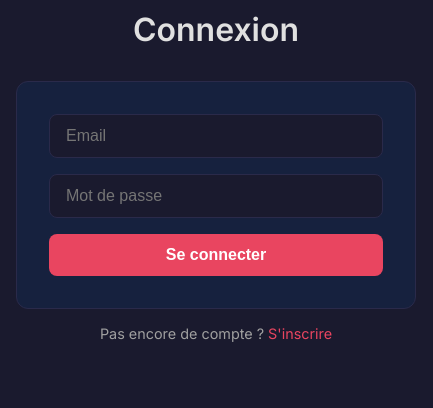
Test case: Login › affiche une erreur avec de mauvais identifiants
Type "mauvais@email.com" into the field with placeholder "Email" at [216, 136], box [49,114,383,158]
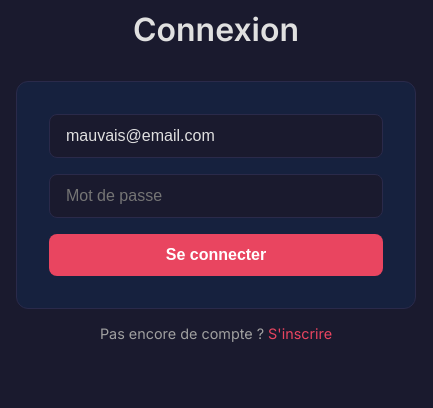
Type "mauvaismdp" into the password field with placeholder "Mot de passe" at [216, 196], box [49,174,383,218]
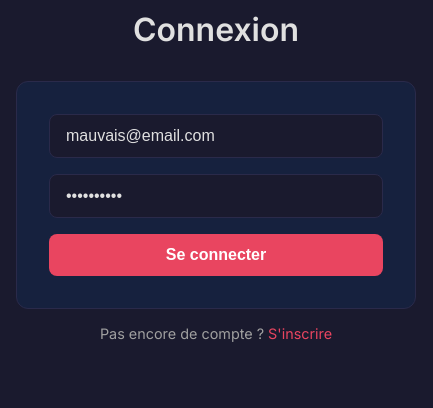
Click the button "Se connecter" at [216, 255], box [49,234,383,276]
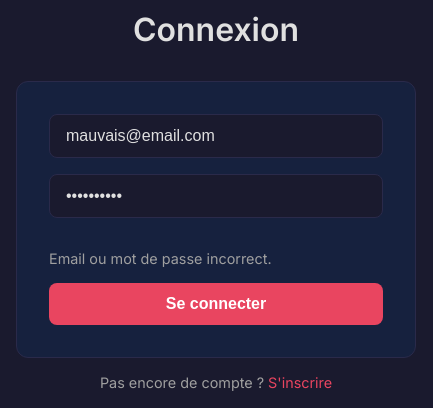
Now the text "Email ou mot de passe incorrect." is shown, box [49,250,272,267]
